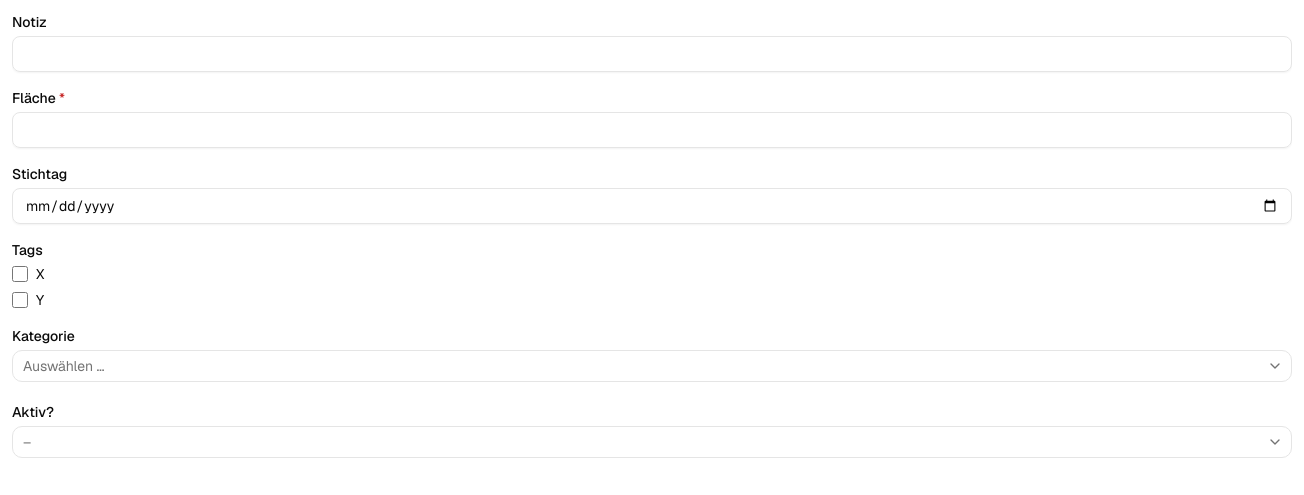
Scenario: FelderWerte › speichert einen Textwert via PUT mit korrektem Body
Type "neuer Wert" into the field labelled "Notiz".
click(652, 54); type("neuer Wert")  # box [12,36,1292,72]
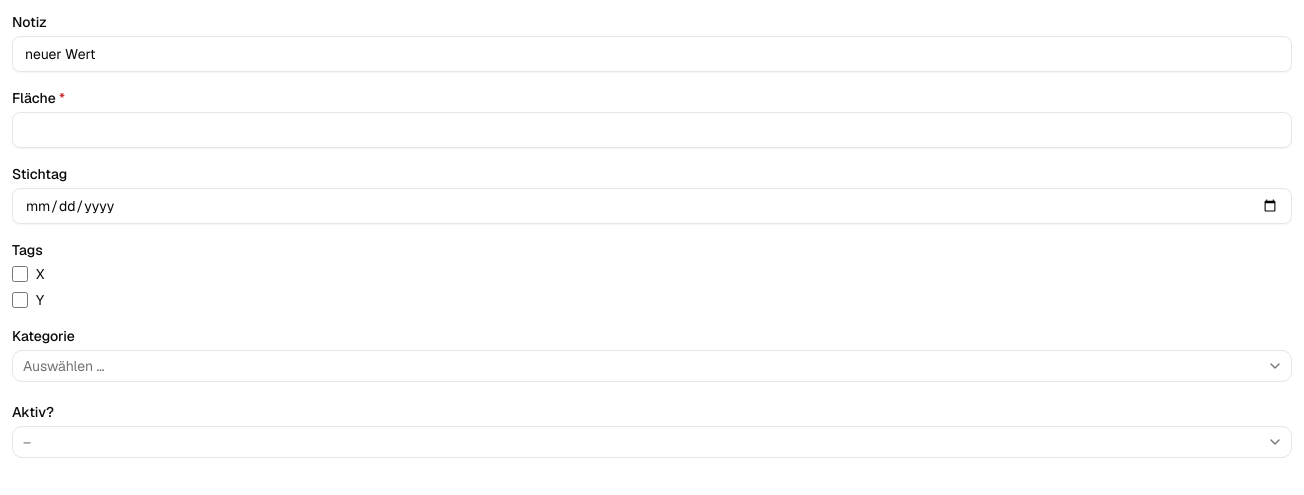
Leave the field labelled "Notiz", box [12,36,1292,72]
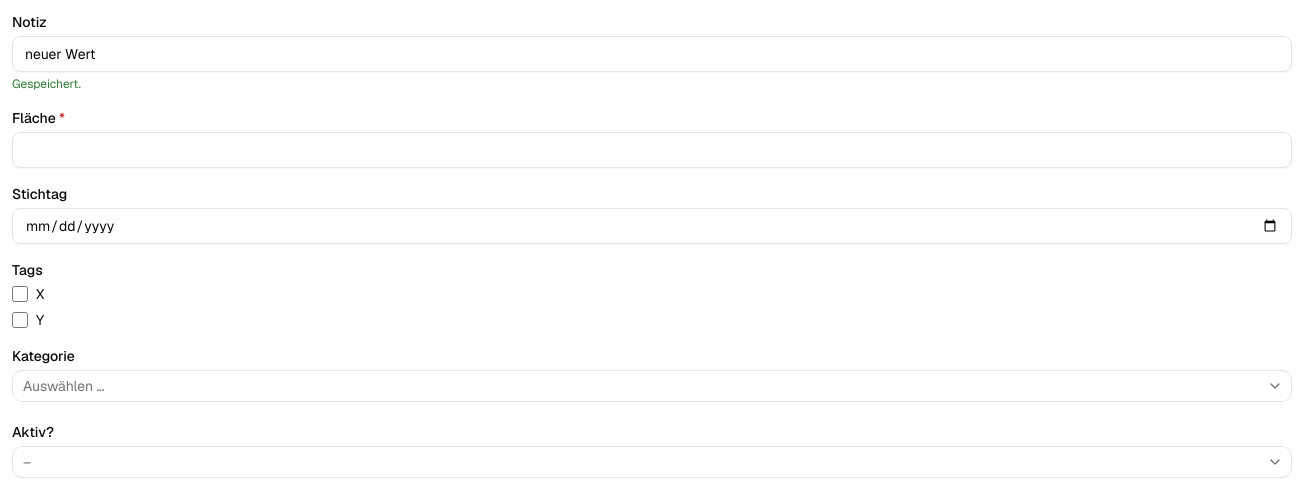
Expected: the text "Gespeichert." is shown, [12,76,81,92]
